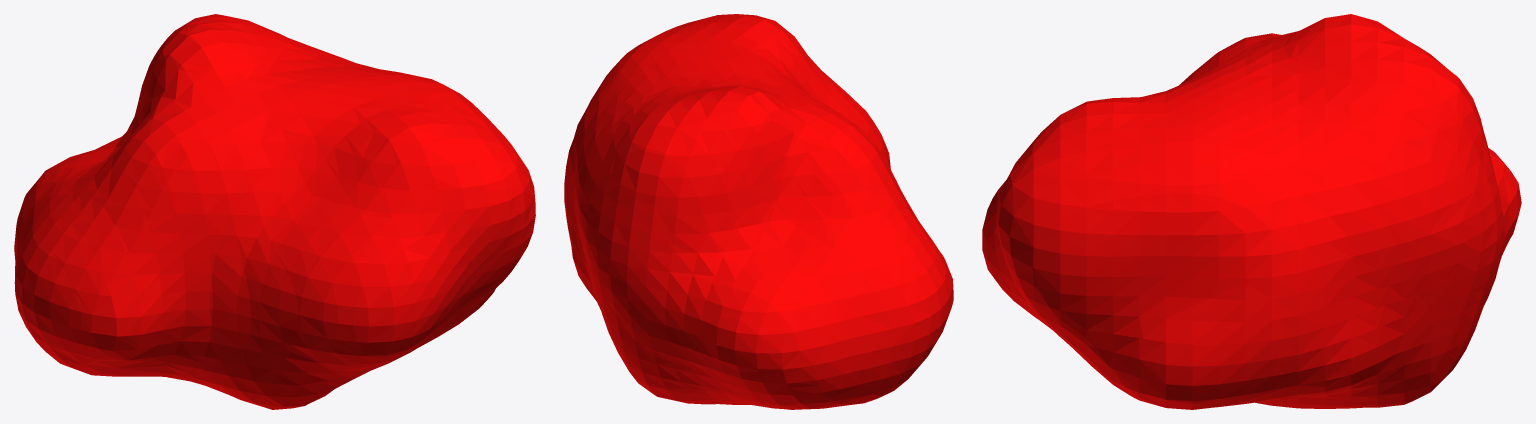
Rendered from rpmD_coarse.dae.
3 renders of one model, left to right at view 1: azimuth 30°, elevation 25°; view 2: azimuth 150°, elevation 25°; view 3: azimuth 270°, elevation 25°, orthographic. The views are drawn at different scales.
Visible parts, largest first — view 1: rpmD; view 2: rpmD; view 3: rpmD.
Part boxes in pixels (box(x1,y1,x2,y2)): rpmD: box(14, 14, 535, 409); rpmD: box(564, 14, 953, 409); rpmD: box(982, 14, 1521, 409).
Size of the model in its own units: 33.16 by 25.23 by 33.05.
